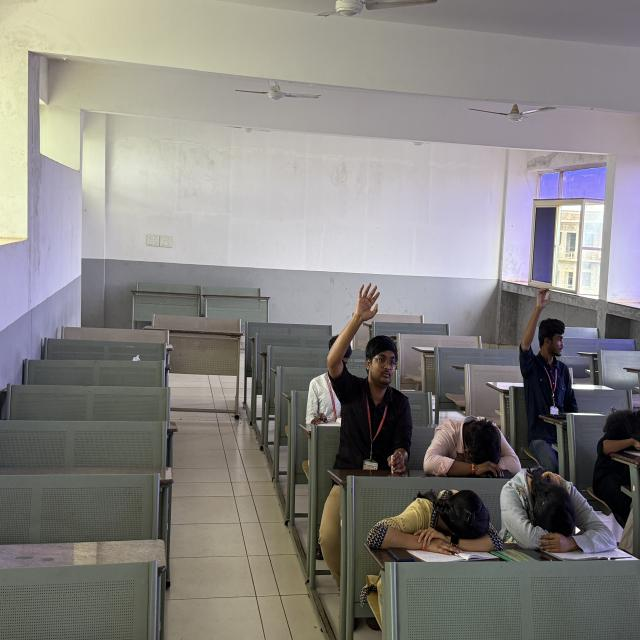Hand Rising: (491, 264, 600, 452), (331, 253, 416, 473)
Sleeping: (492, 444, 607, 597), (387, 462, 496, 582), (430, 378, 524, 494)
